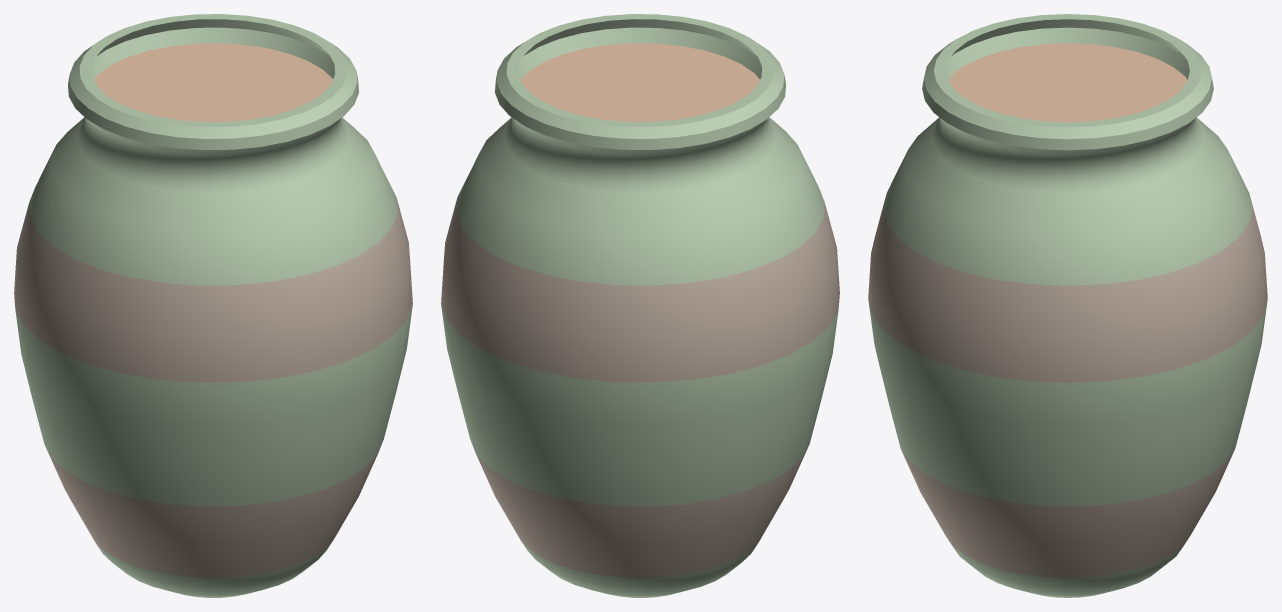
File: FloristsVase.fbx
3 views of the same model, side by side, from view 1: azimuth 30°, elevation 25°; view 2: azimuth 150°, elevation 25°; view 3: azimuth 270°, elevation 25° (orthographic).
Parts seen in each view (by area): view 1: FloristsVase; view 2: FloristsVase; view 3: FloristsVase.
Part boxes in pixels (left/top/right/bottom): FloristsVase: left=14, top=14, right=412, bottom=597; FloristsVase: left=441, top=14, right=839, bottom=597; FloristsVase: left=868, top=14, right=1267, bottom=597.
Size of the model in its own units: 35.92 by 49.58 by 35.92.
